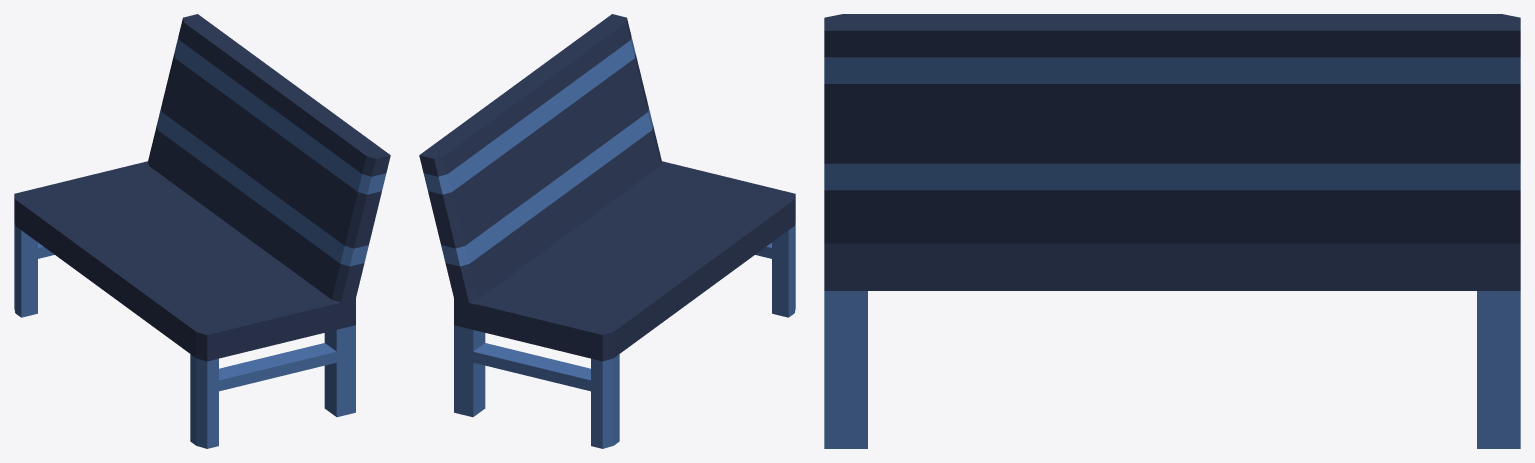
File: BenchModel02.fbx
The picture shows the model from 3 angles, left to right: view 1: azimuth 30°, elevation 25°; view 2: azimuth 150°, elevation 25°; view 3: azimuth 270°, elevation 25°; orthographic projection. The views are drawn at different scales.
Parts seen in each view (by area): view 1: Bench02; view 2: Bench02; view 3: Bench02.
Boxes of the visible parts, x1,y1,x2,y2 form: Bench02: (14, 14, 390, 448); Bench02: (419, 14, 795, 448); Bench02: (824, 14, 1520, 448).
Size of the model in its own units: 100 by 126 by 177.
